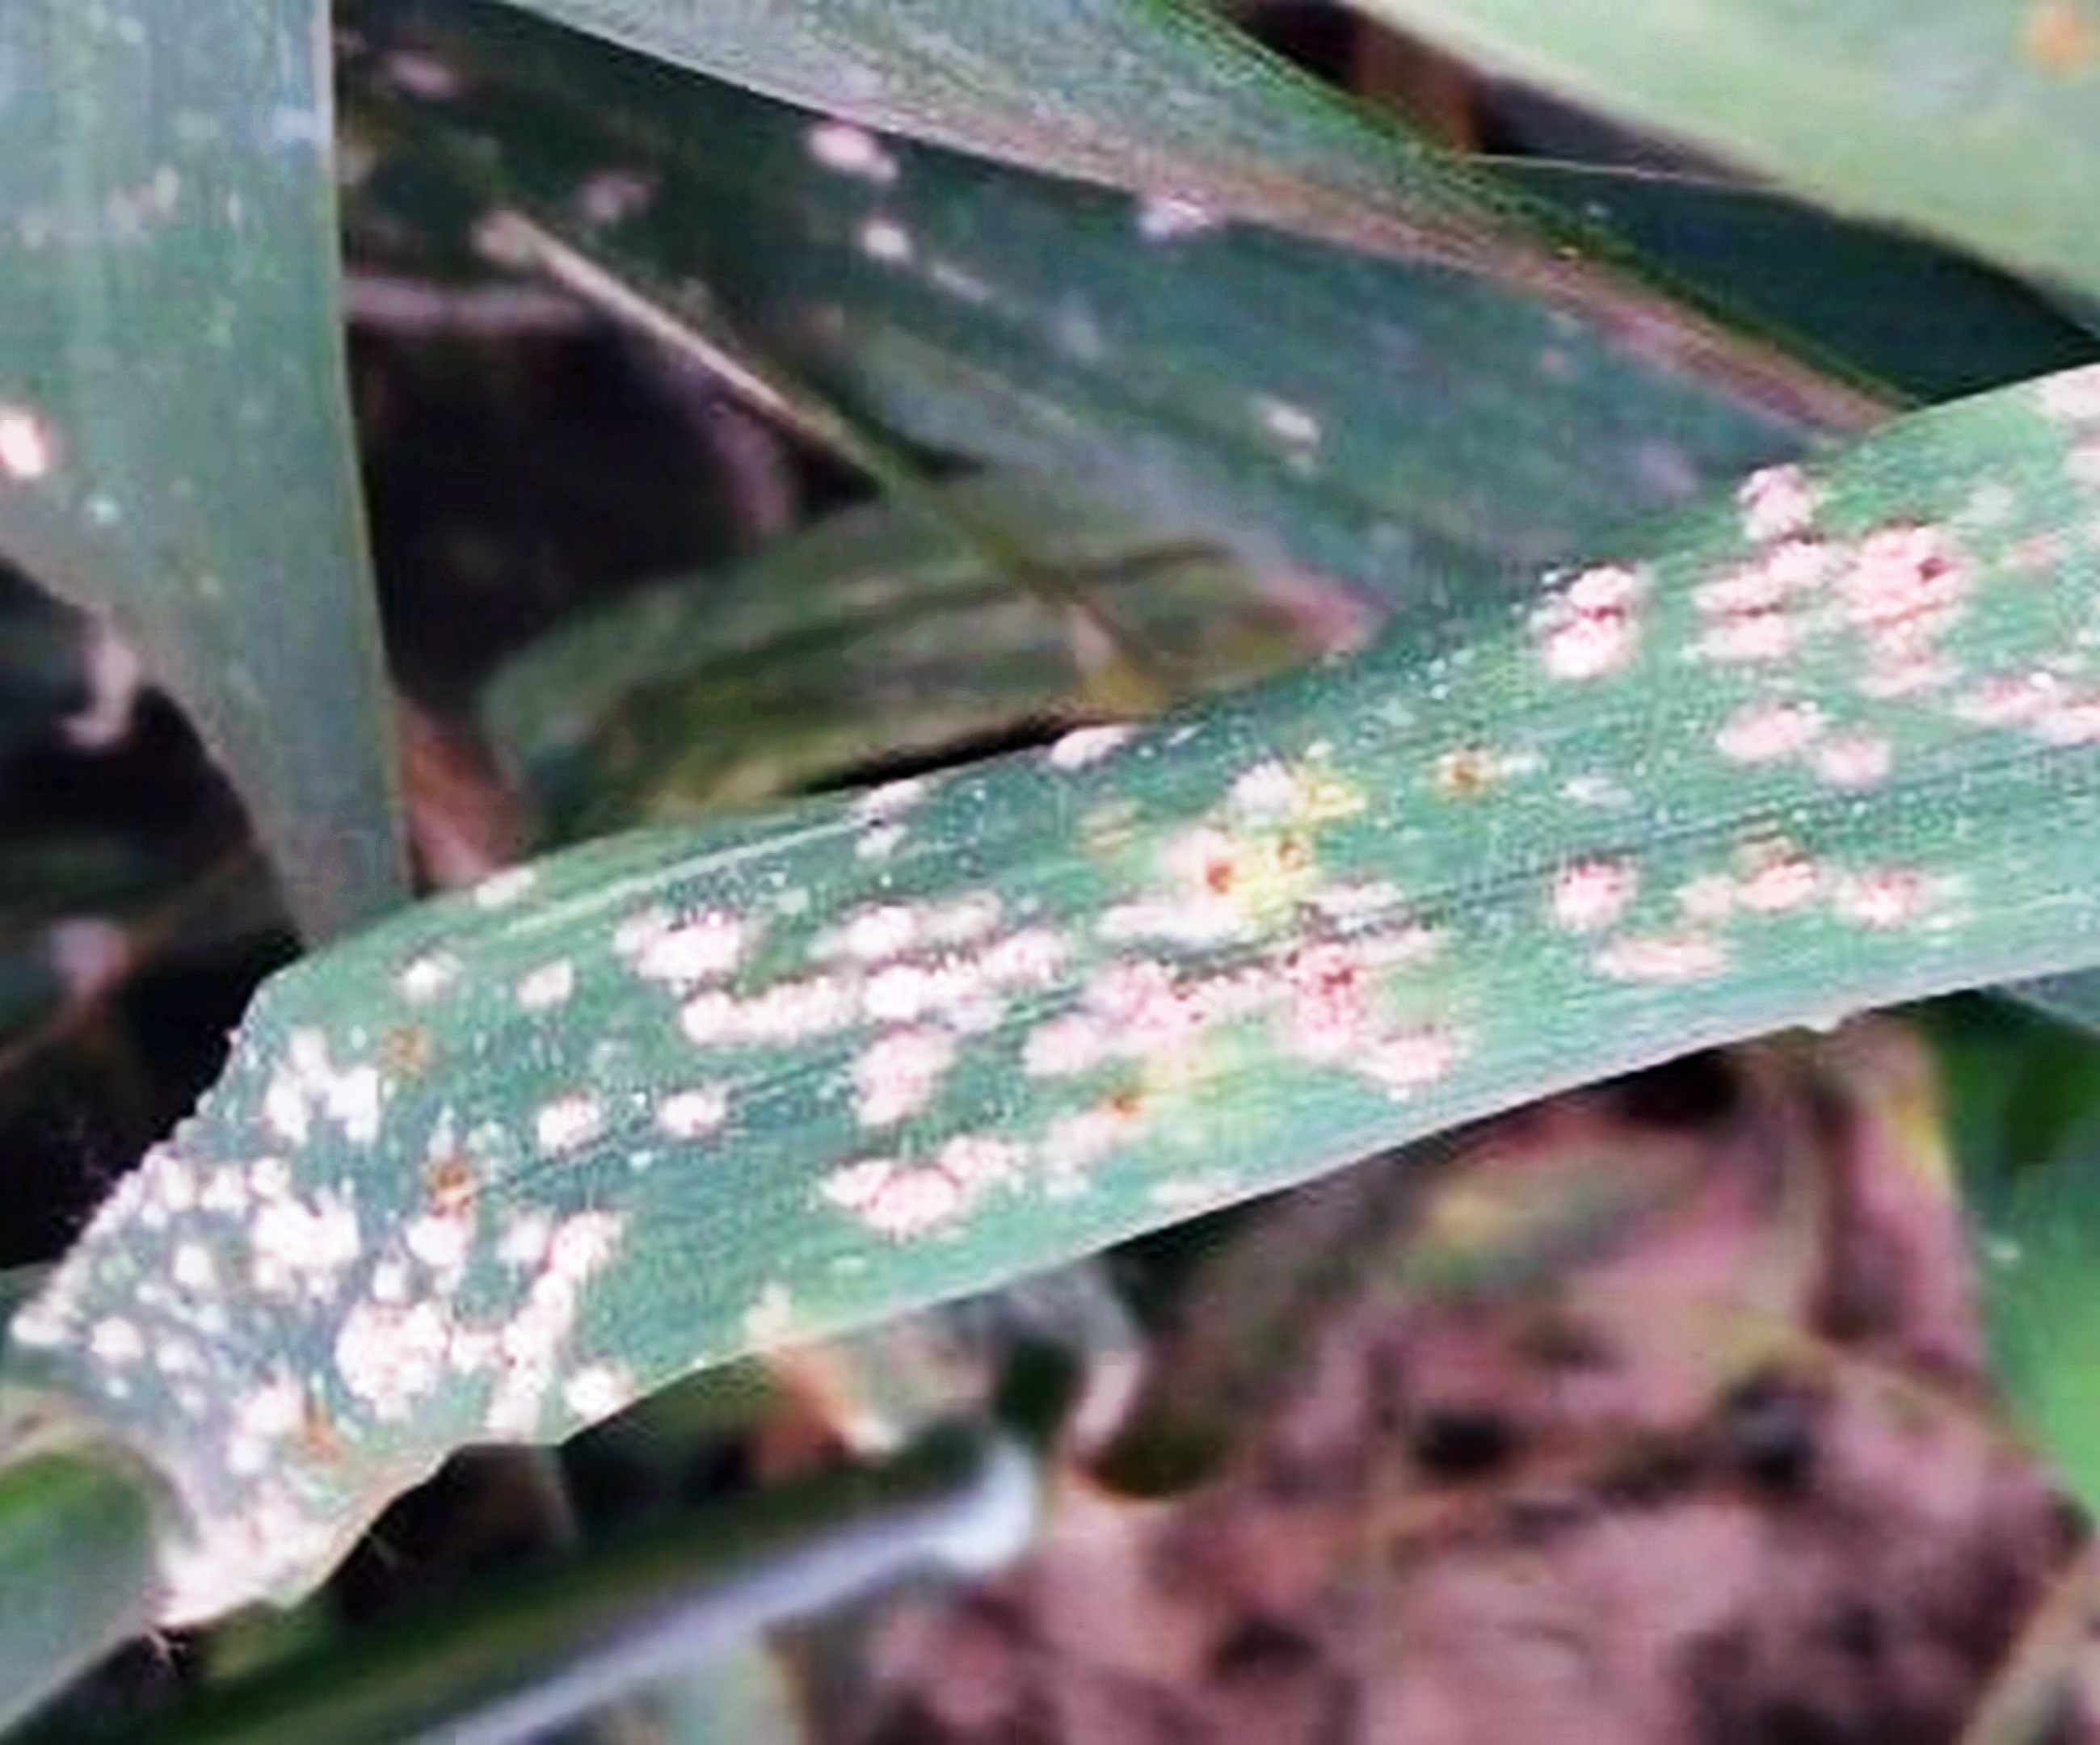Powdery Mildew: (460, 397, 2044, 1367)
